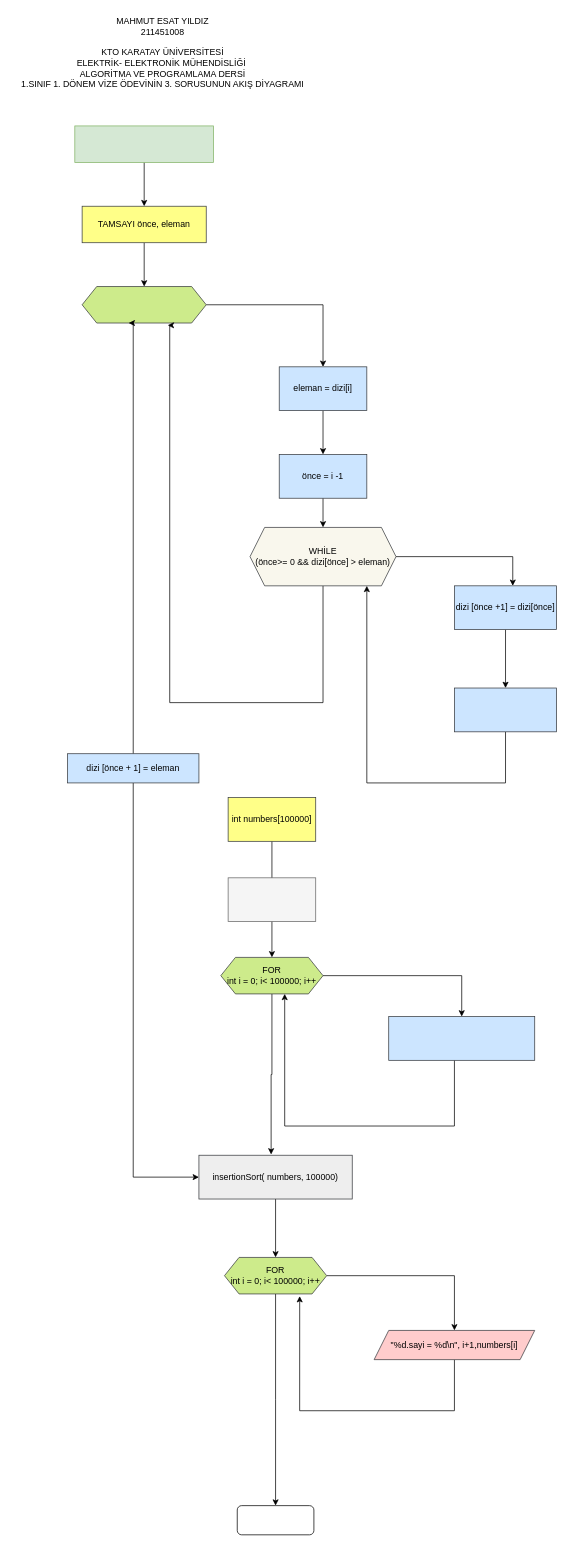
The diagram is 569 pixels wide and 1548 high, and some of its shapes have lost their labels. The centre of each missing label's shape, as x and y in pixels:
FOR int i = 1; i< boyut; i++: (143,304)
insertionSort(int dizi[] , int boyut): (144,143)
numbers[i] = (rand()% 10000 + 1: (461,1038)
SON: (275,1520)
srand(time(0)): (271,899)
önce -- ;: (505,709)
